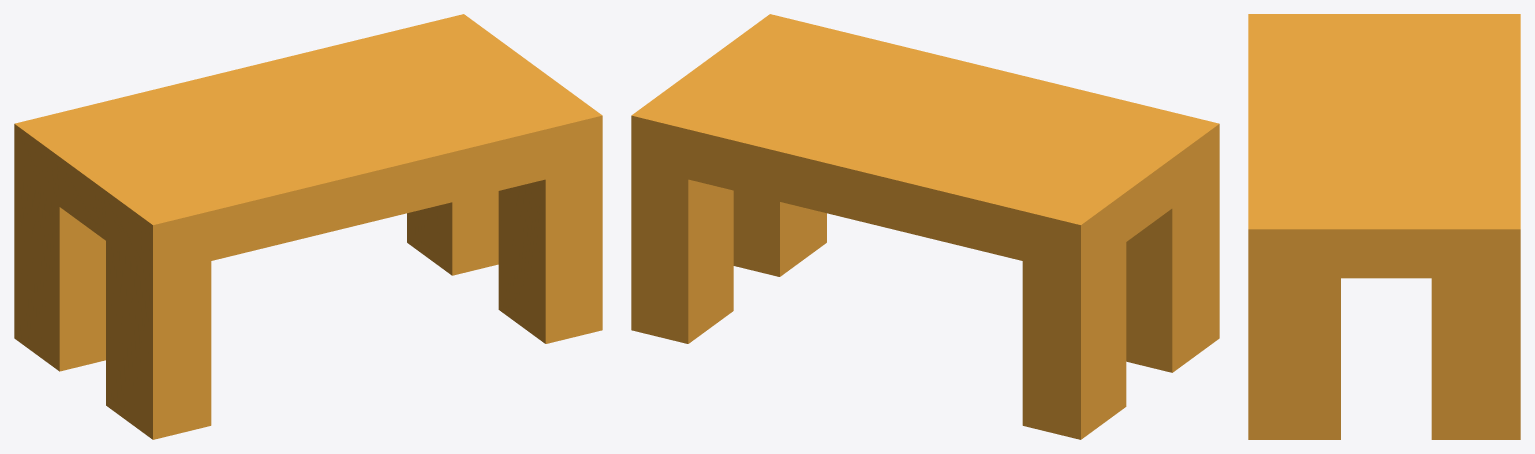
The model's file is table11.fbx.
3 renders of one model, left to right at view 1: azimuth 30°, elevation 25°; view 2: azimuth 150°, elevation 25°; view 3: azimuth 270°, elevation 25°, orthographic.
Parts seen in each view (by area): view 1: Cube; view 2: Cube; view 3: Cube.
Boxes of the visible parts, x1=… form: Cube: x1=14, y1=14, x2=602, y2=439; Cube: x1=631, y1=14, x2=1219, y2=439; Cube: x1=1248, y1=14, x2=1520, y2=439.
Bounding box in the file's own units: 738 × 337 × 395.
